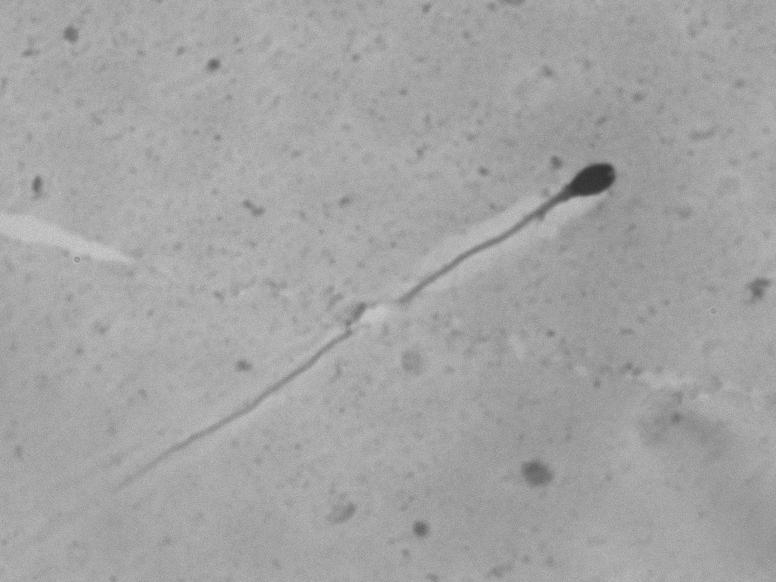Abnormal: (391, 137, 644, 346)
